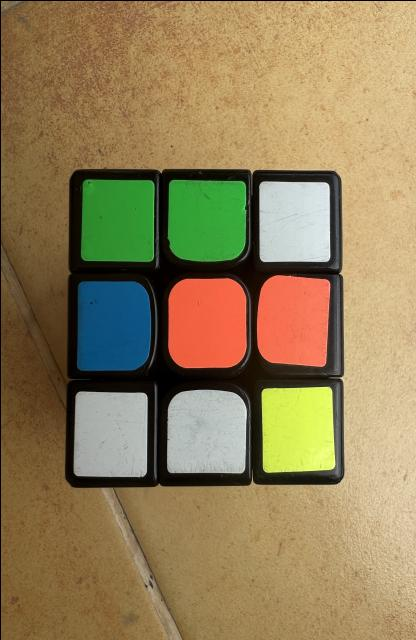Blue: (76, 280, 151, 370)
Green: (167, 179, 246, 261), (80, 179, 154, 261)
Orange: (167, 278, 246, 368), (256, 275, 329, 366)
White: (166, 389, 246, 472), (73, 390, 146, 476), (258, 180, 329, 261)
Yellow: (260, 385, 335, 472)
